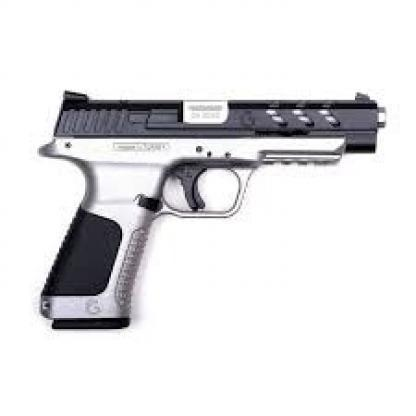Pistol: (32, 87, 387, 328)
